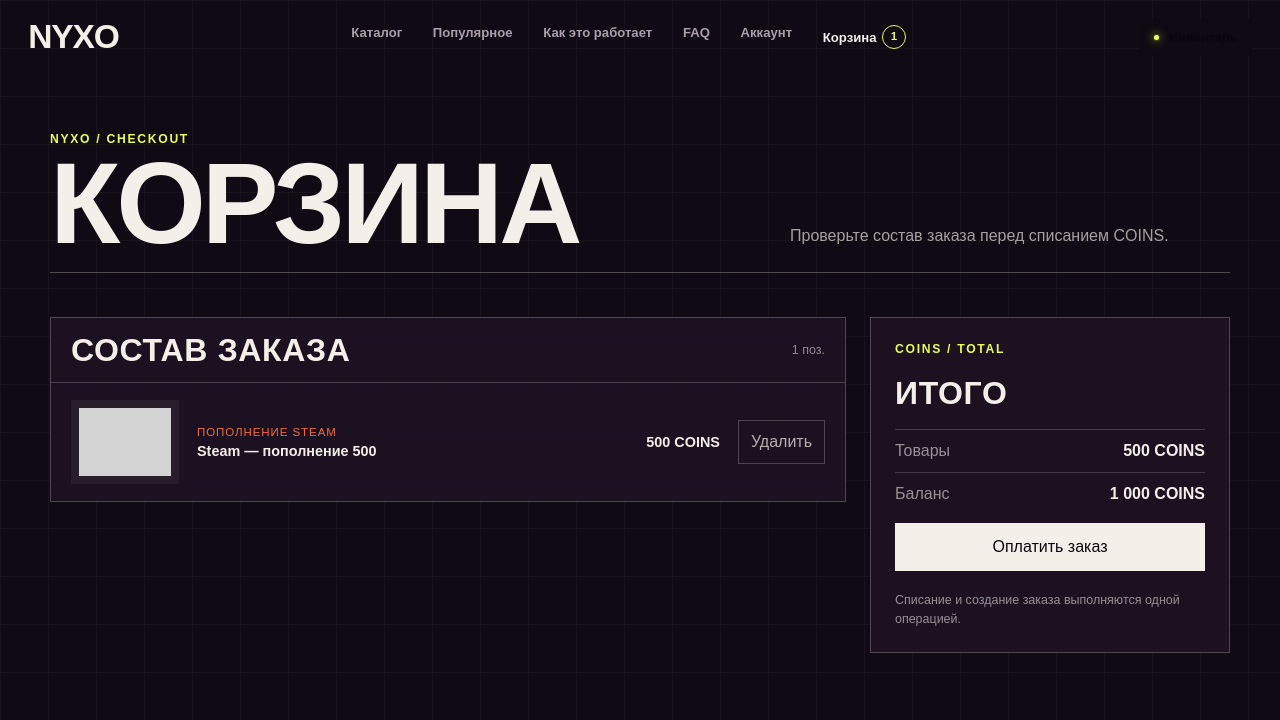
it: CartPage › shows a storage error and no false receipt when persistence fails
What coordinates should you click on to do the following:
click the button "Оплатить заказ"
I would click on:
 (1050, 547)
Its box is [895, 523, 1205, 571].
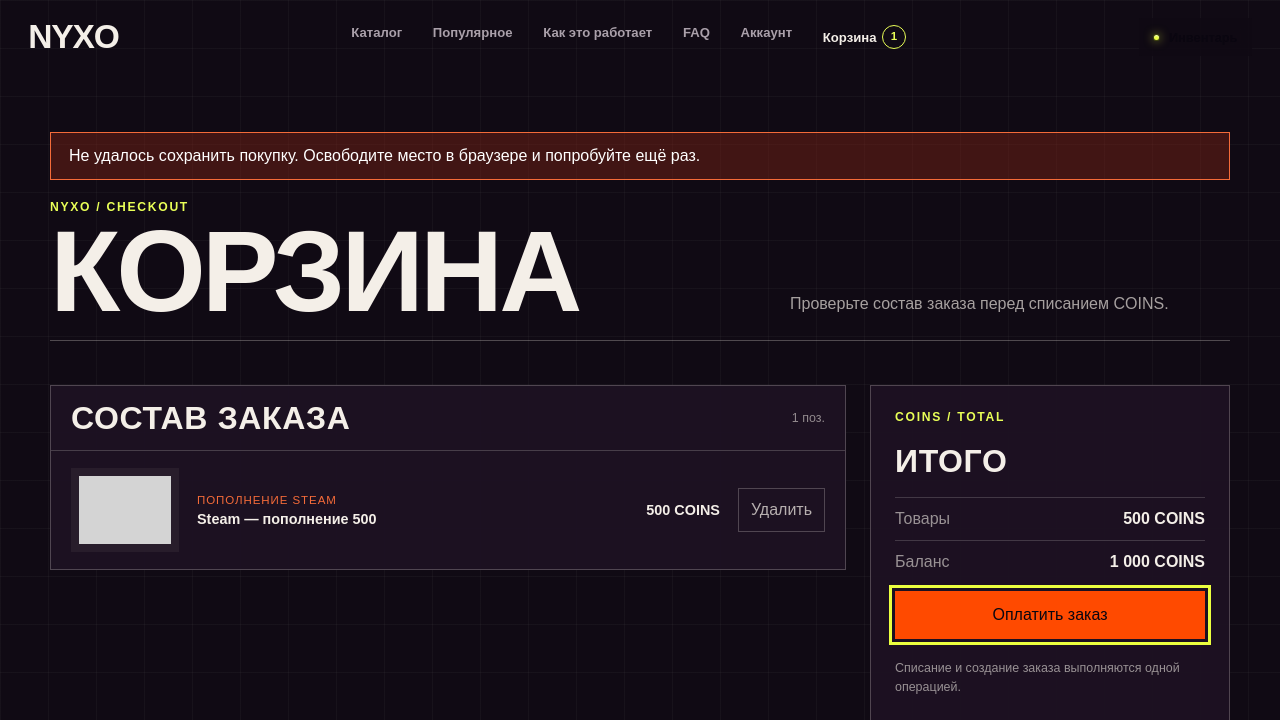
Check: the message shows "Не удалось сохранить покупку", box [69, 147, 700, 164]
